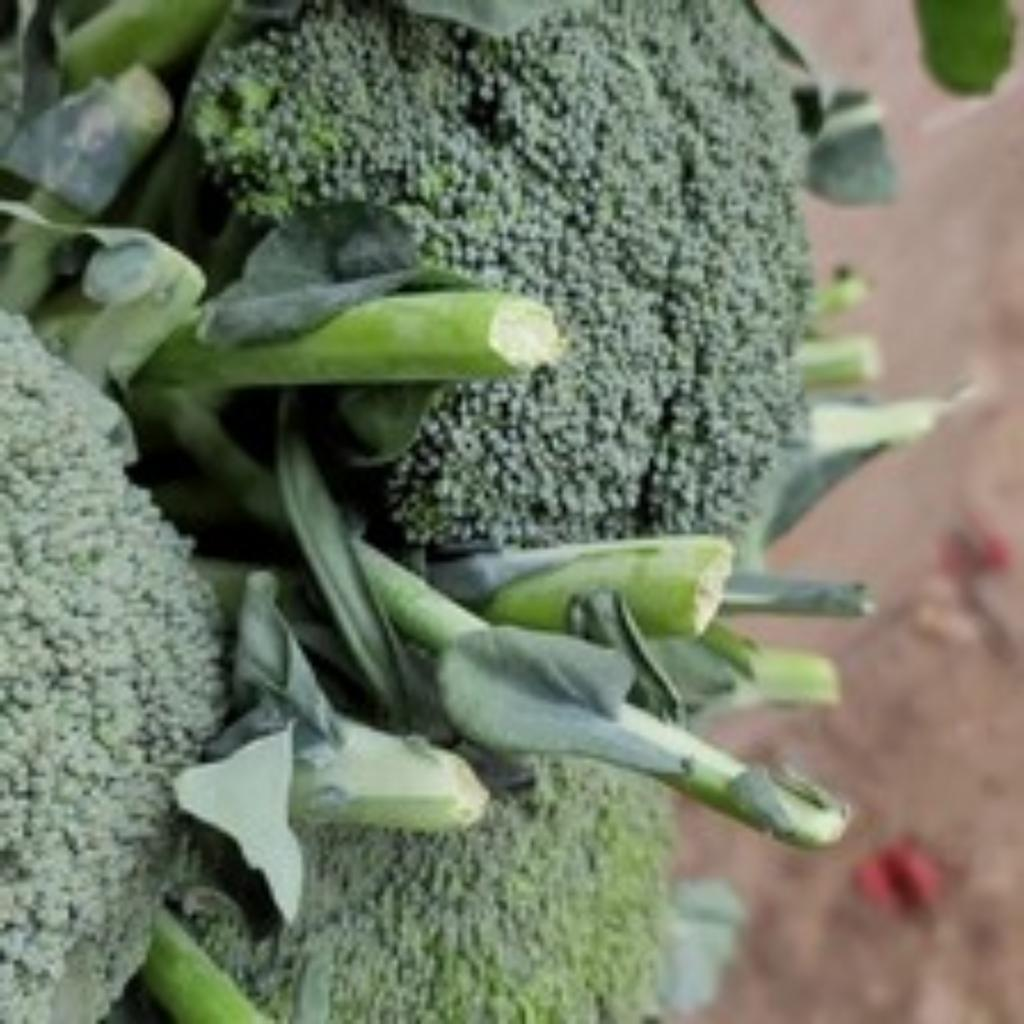Broccoli: (190, 0, 804, 543), (192, 0, 802, 542), (194, 0, 802, 543), (0, 310, 222, 1023), (0, 310, 222, 1023), (290, 758, 666, 1024), (292, 758, 666, 1024)
